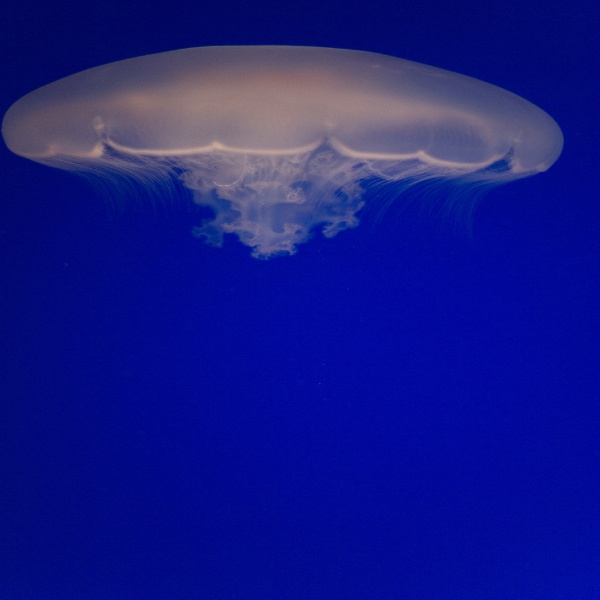Jellyfish: (7, 32, 570, 265)
